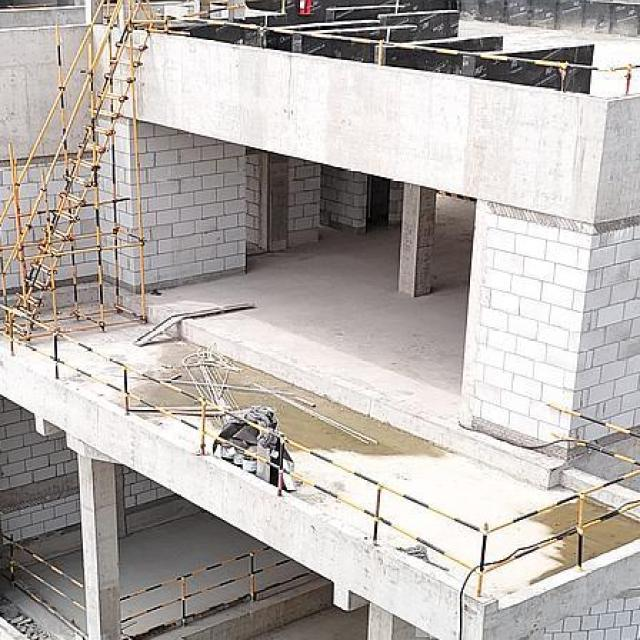edge_guardrail: (0, 301, 640, 600), (168, 17, 640, 93), (119, 545, 310, 640), (1, 533, 89, 640), (547, 403, 640, 466), (183, 3, 241, 18)
